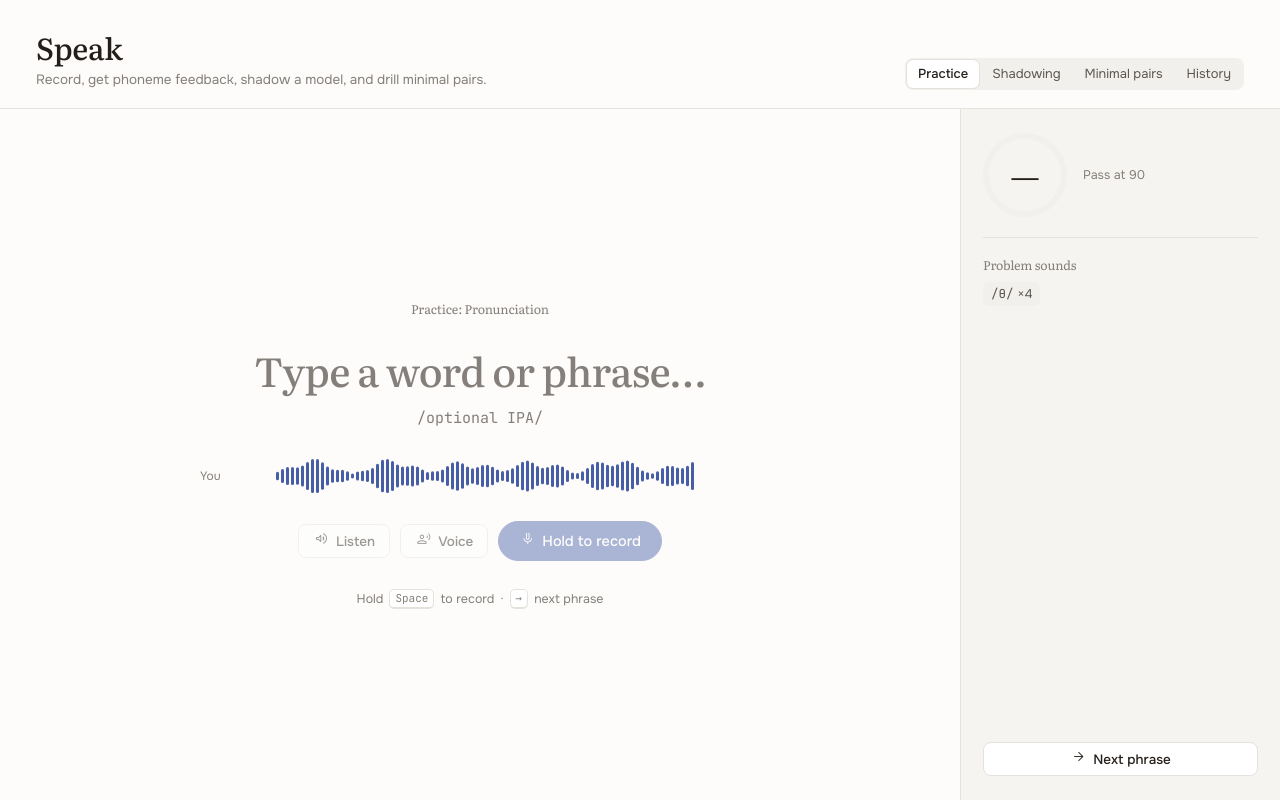
Test: PronunciationPage › switches to minimal pairs and shows the studio contrast
Click the tab "Minimal pairs". click: {"x": 1124, "y": 74}
box: [1074,60,1174,88]
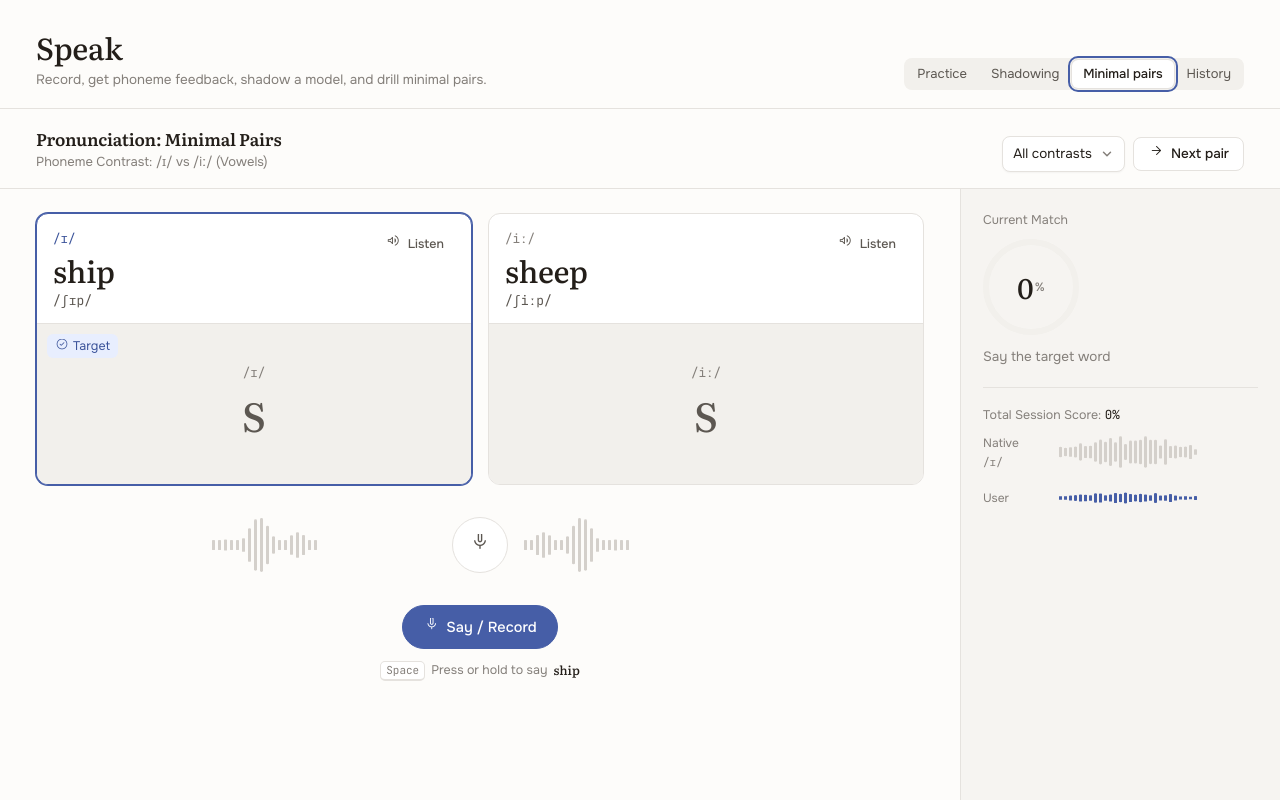
Expected: the heading "Pronunciation: Minimal Pairs" is shown, [36,129,281,148]
Expected: the text "sheep" is shown, [505,252,588,287]
Expected: the 1st text "ship" is shown, [53,252,115,287]
